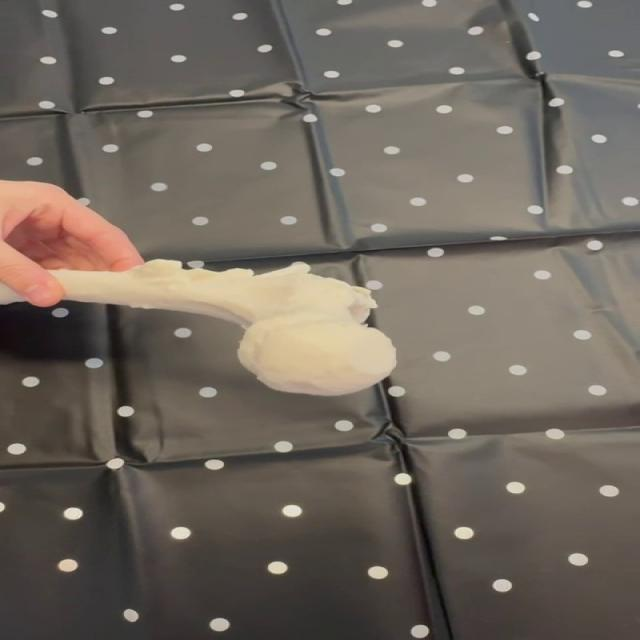bones: (50, 260, 397, 396)
